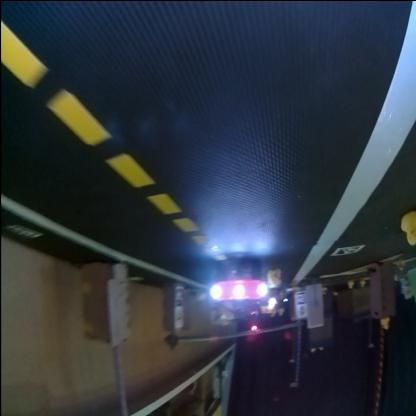Duckie: (401, 211, 415, 245), (267, 270, 281, 286), (381, 318, 391, 330), (349, 281, 354, 289)
Duckiebot: (210, 264, 266, 318)
QR code: (332, 247, 364, 254)
